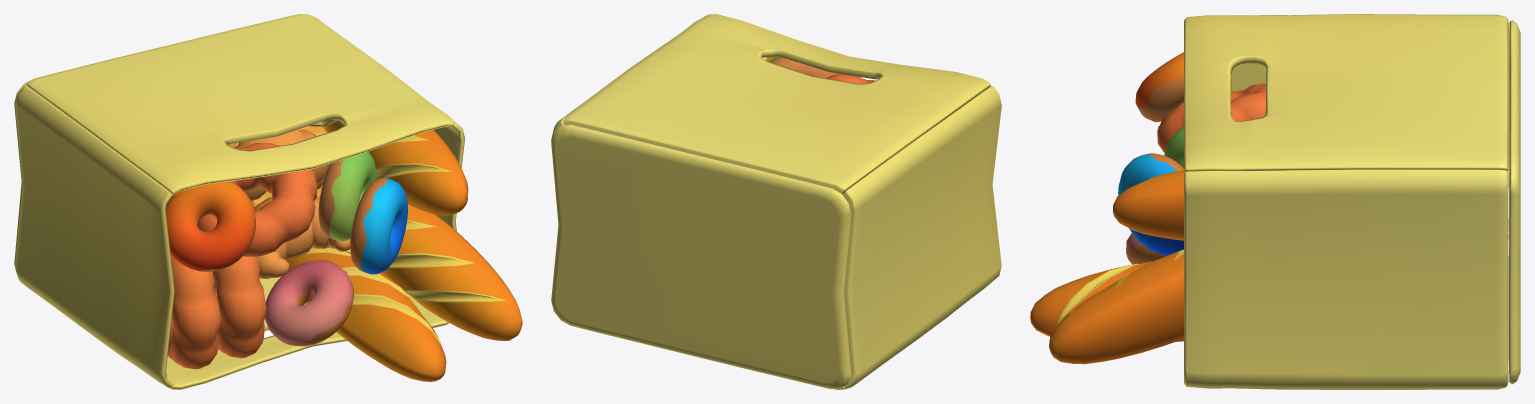
Rendered from Level_161.fbx.
The picture shows the model from 3 angles, left to right: view 1: azimuth 30°, elevation 25°; view 2: azimuth 150°, elevation 25°; view 3: azimuth 270°, elevation 25°; orthographic projection. The views are drawn at different scales.
Parts seen in each view (by area): view 1: Cube_L1 4.003, Cube_L1.003, Cube_L2 20.001, Cube_L2 14.001, Cube_L2 2.001, Cube_L2 8.001, Cube_L2 21.001, Cube_L2 7.001, Cube_L2 1.001, Cube_L2 16.001, Cube_L2 5.001, Cube_L2 13.001 (+5 smaller); view 2: Cube_L1 2.003, Cube_L1 4.003, Cube_L1.003, Cube_L2 13.001; view 3: Cube_L1 3.003, Cube_L1 4.003, Cube_L2 20.001, Cube_L1 2.003, Cube_L2 21.001, Cube_L2 14.001, Cube_L2 2.001, Cube_L2 16.001, Cube_L2 7.001, Cube_L1.003, Cube_L2 8.001, Cube_L2 13.001 (+1 smaller).
Part boxes in pixels (x1=…): Cube_L1 4.003: x1=26, y1=14, x2=453, y2=194; Cube_L1.003: x1=15, y1=85, x2=174, y2=387; Cube_L2 20.001: x1=382, y1=204, x2=522, y2=340; Cube_L2 14.001: x1=286, y1=247, x2=446, y2=381; Cube_L2 2.001: x1=166, y1=181, x2=255, y2=271; Cube_L2 8.001: x1=265, y1=260, x2=353, y2=346; Cube_L2 21.001: x1=322, y1=120, x2=468, y2=215; Cube_L2 7.001: x1=197, y1=143, x2=317, y2=256; Cube_L2 1.001: x1=167, y1=254, x2=220, y2=369; Cube_L2 16.001: x1=350, y1=178, x2=407, y2=274; Cube_L2 5.001: x1=212, y1=256, x2=266, y2=358; Cube_L2 13.001: x1=318, y1=151, x2=376, y2=241; Cube_L1 2.003: x1=551, y1=124, x2=851, y2=389; Cube_L1 4.003: x1=563, y1=14, x2=990, y2=193; Cube_L1.003: x1=843, y1=86, x2=1001, y2=388; Cube_L2 13.001: x1=769, y1=56, x2=837, y2=78; Cube_L1 3.003: x1=1184, y1=169, x2=1508, y2=389; Cube_L1 4.003: x1=1184, y1=14, x2=1508, y2=171; Cube_L2 20.001: x1=1049, y1=249, x2=1183, y2=364; Cube_L1 2.003: x1=1509, y1=20, x2=1520, y2=384; Cube_L2 21.001: x1=1113, y1=170, x2=1185, y2=240; Cube_L2 14.001: x1=1030, y1=261, x2=1183, y2=341; Cube_L2 2.001: x1=1135, y1=52, x2=1232, y2=122; Cube_L2 16.001: x1=1118, y1=153, x2=1184, y2=255; Cube_L2 7.001: x1=1157, y1=83, x2=1265, y2=153; Cube_L1.003: x1=1231, y1=63, x2=1508, y2=230; Cube_L2 8.001: x1=1126, y1=233, x2=1166, y2=264; Cube_L2 13.001: x1=1164, y1=128, x2=1184, y2=168.
Bounding box in the file's own units: 8.43 × 5.66 × 10.59.
